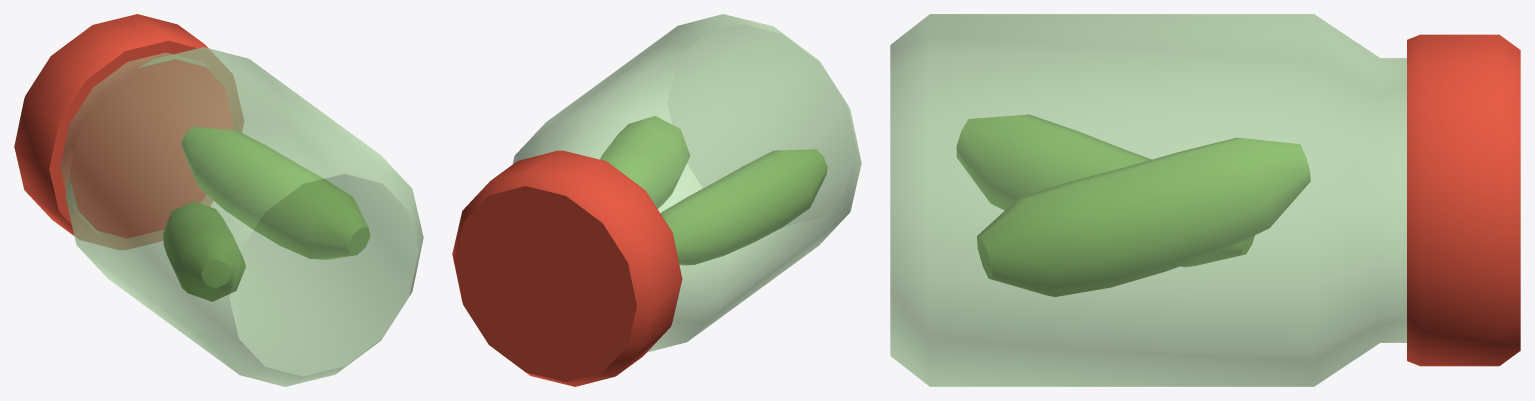
Rendered from jar.glb.
3 renders of one model, left to right at view 1: azimuth 30°, elevation 25°; view 2: azimuth 150°, elevation 25°; view 3: azimuth 270°, elevation 25°, orthographic. The views are drawn at different scales.
Parts seen in each view (by area): view 1: Jar; view 2: Jar; view 3: Jar.
Part boxes in pixels (left/top/right/bottom): Jar: left=14, top=14, right=423, bottom=386; Jar: left=452, top=14, right=861, bottom=386; Jar: left=890, top=14, right=1520, bottom=386.
Size of the model in its own units: 0.144 by 0.1404 by 0.238.
